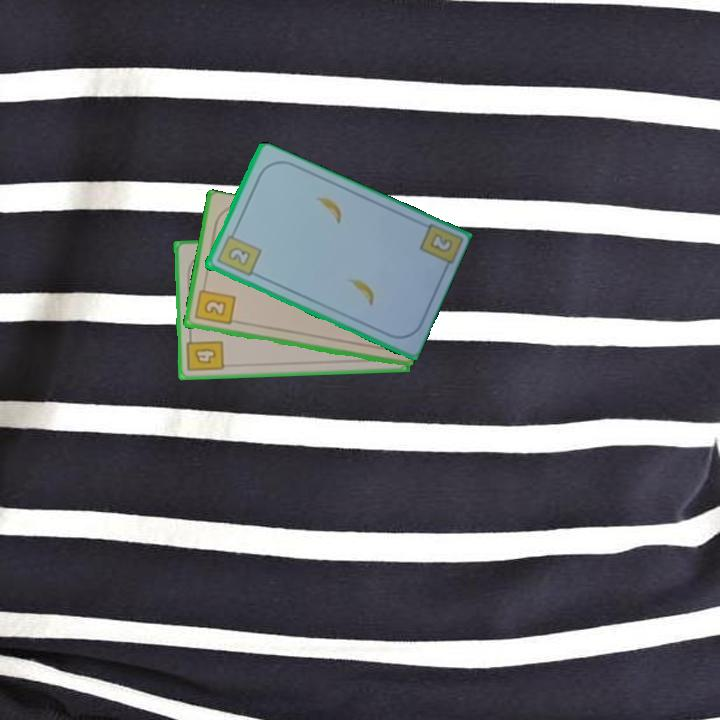2b: (213, 227, 264, 279), (191, 281, 237, 328), (426, 230, 455, 255)
4b: (184, 331, 226, 375)
